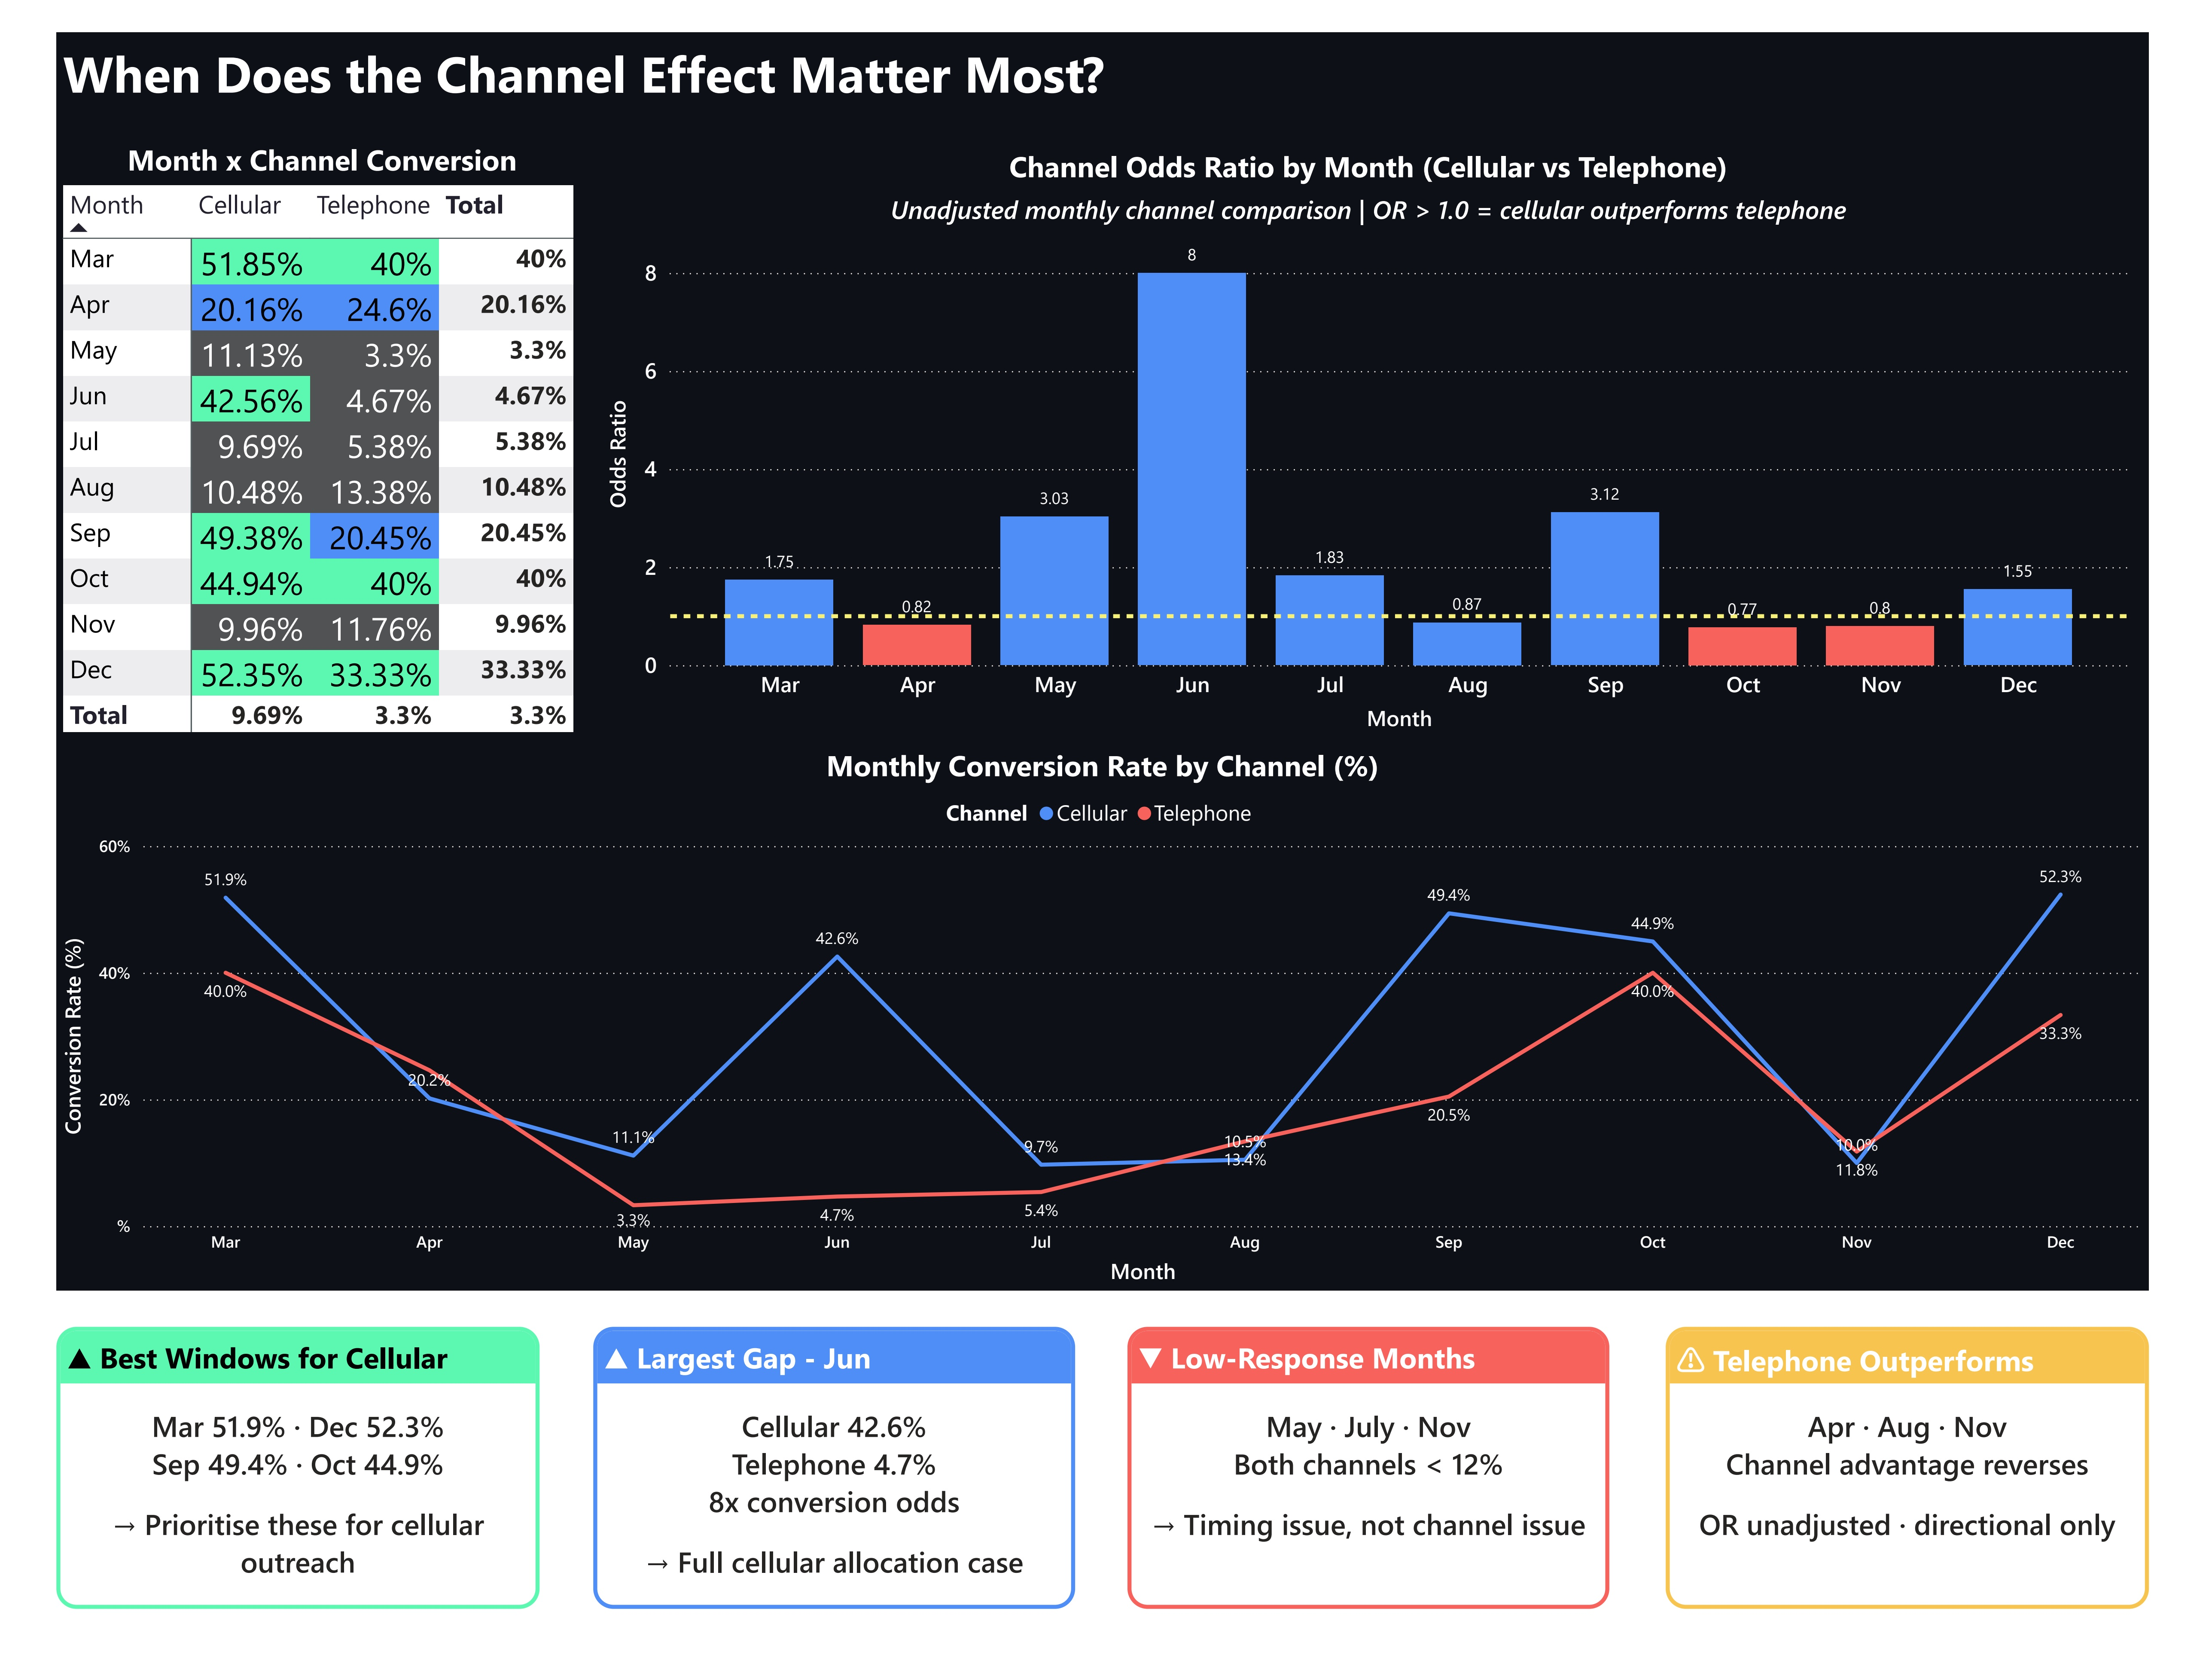

The page's visual inventory and layout, read from the dashboard file:
{"tool":"powerbi","page":{"name":"1 Timing & Channel Heterogeneity","canvas":[1600,1200],"ordinal":2},"visuals":[{"type":"textbox","box":[18,0,1559,80],"z":0},{"type":"pivotTable","title":"Month x Channel Conversion","fields":{"Columns":["monthly_channel_conversion.contact"],"Values":["Min(monthly_channel_conversion.conversion_rate_pct)"],"Rows":["monthly_channel_conversion.month"]},"box":[18,80,396,446],"z":1000},{"type":"clusteredColumnChart","title":"Channel Odds Ratio by Month (Cellular vs Telephone)","fields":{"Y":["Sum(timing_monthly_or_ci.Odds Ratio cellular vs telephone)"],"Category":["timing_monthly_or_ci.month"]},"box":[414,80,1163,446],"z":2000},{"type":"lineChart","title":"Monthly Conversion Rate by Channel (%)","fields":{"Category":["monthly_channel_conversion.Month"],"Y":["Sum(monthly_channel_conversion.conversion_rate_pct)"],"Series":["monthly_channel_conversion.Channel"]},"box":[18,526,1559,411],"z":3000},{"type":"textbox","title":"▲ Best Windows for Cellular","box":[18,964,360,210],"z":4000},{"type":"textbox","title":"▲ Largest Gap - Jun","box":[418,964,359,210],"z":5000},{"type":"textbox","title":"▼ Low-Response Months","box":[816,964,359,210],"z":6000},{"type":"textbox","title":"⚠ Telephone Outperforms","box":[1217,964,360,210],"z":7000}]}

Visuals, with their boxes on the page's 1600x1200 design canvas (x1, y1, x2, y2). These are canvas units, not pixel positions in the 2212x1676 screenshot, which may show the page scaled, cropped or inside an application window:
textbox: Rect(18, 0, 1577, 80)
"Month x Channel Conversion" pivotTable: Rect(18, 80, 414, 526)
"Channel Odds Ratio by Month (Cellular vs Telephone)" clusteredColumnChart: Rect(414, 80, 1577, 526)
"Monthly Conversion Rate by Channel (%)" lineChart: Rect(18, 526, 1577, 937)
"▲ Best Windows for Cellular" textbox: Rect(18, 964, 378, 1174)
"▲ Largest Gap - Jun" textbox: Rect(418, 964, 777, 1174)
"▼ Low-Response Months" textbox: Rect(816, 964, 1175, 1174)
"⚠ Telephone Outperforms" textbox: Rect(1217, 964, 1577, 1174)
